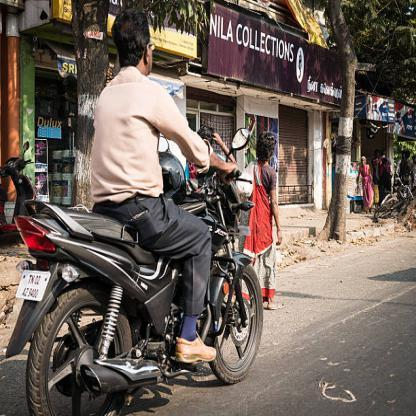Motorcycle: (4, 159, 268, 415)
